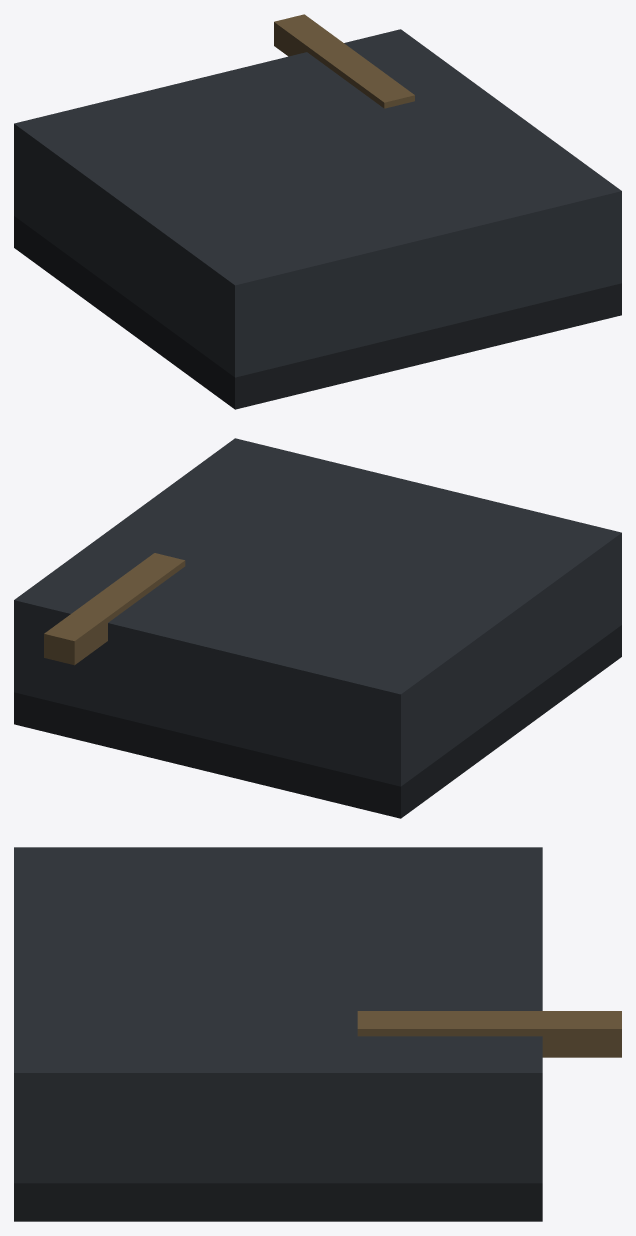
Rendered from inf_runner_foot.fbx.
3 renders of one model, top to bottom at view 1: azimuth 30°, elevation 25°; view 2: azimuth 150°, elevation 25°; view 3: azimuth 270°, elevation 25°, orthographic. The views are drawn at different scales.
Parts seen in each view (by area): view 1: inf_runner_foot; view 2: inf_runner_foot; view 3: inf_runner_foot.
Part boxes in pixels (bbox=[...]): inf_runner_foot: bbox=[14, 14, 621, 409]; inf_runner_foot: bbox=[14, 438, 621, 818]; inf_runner_foot: bbox=[14, 847, 621, 1221].
Bounding box in the file's own units: 101 × 32.5 × 115.
